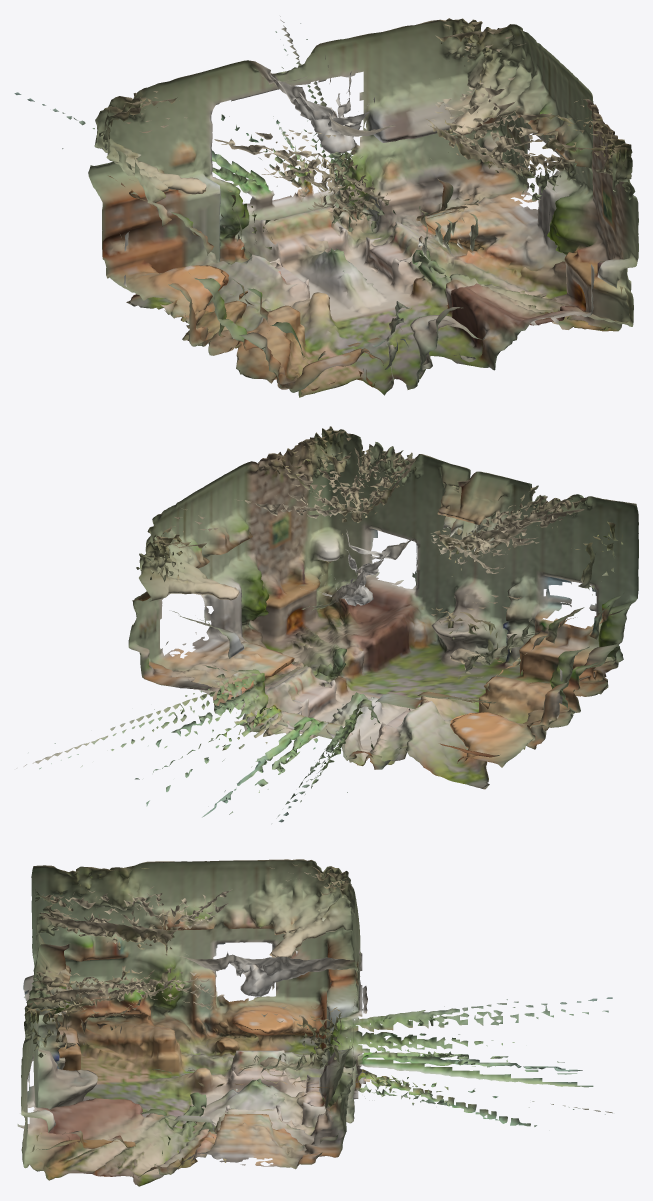
The model's file is ac-woodland-interior_collider.glb.
3 views of the same model, one above another, from view 1: azimuth 30°, elevation 25°; view 2: azimuth 150°, elevation 25°; view 3: azimuth 270°, elevation 25° (orthographic). The views are drawn at different scales.
Visible parts, largest first — view 1: world; view 2: world; view 3: world.
Boxes of the visible parts, box(x1,y1,x2,y2) form: world: box(14, 16, 638, 397); world: box(16, 426, 638, 822); world: box(17, 859, 612, 1186).
Bounding box in the file's own units: 9 × 4.33 × 13.45.
